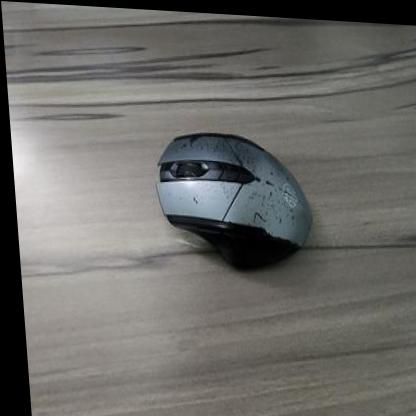mouserotation: (147, 124, 312, 269)
